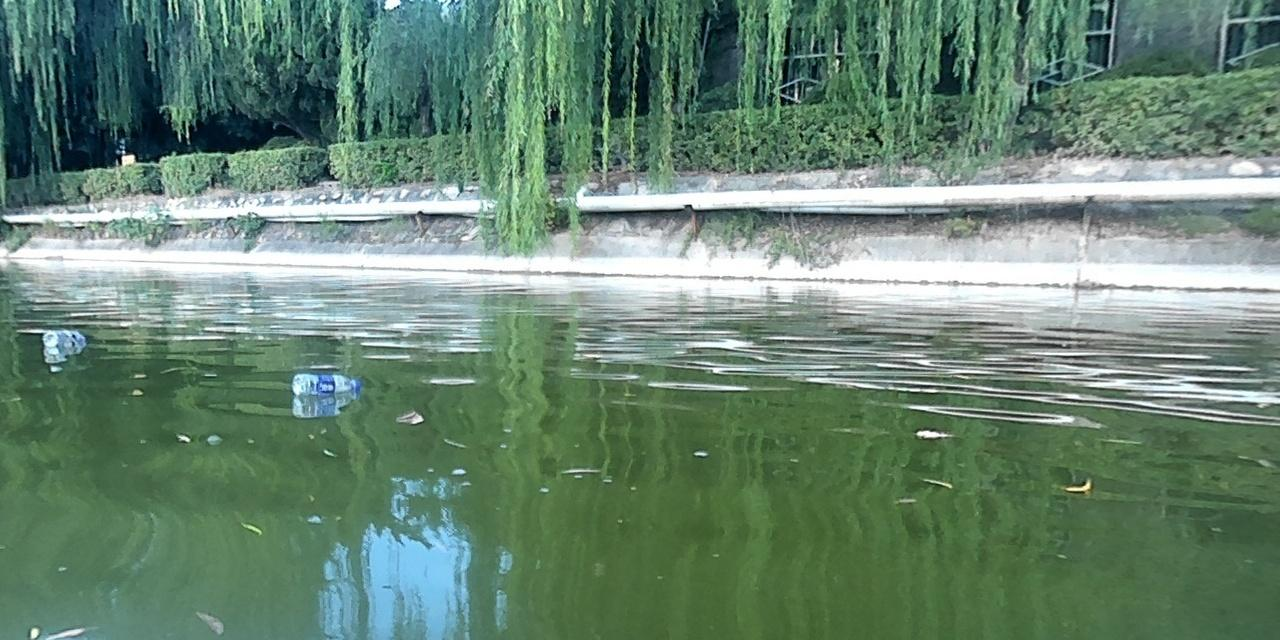bottle: (288, 368, 363, 395), (38, 325, 91, 349)
